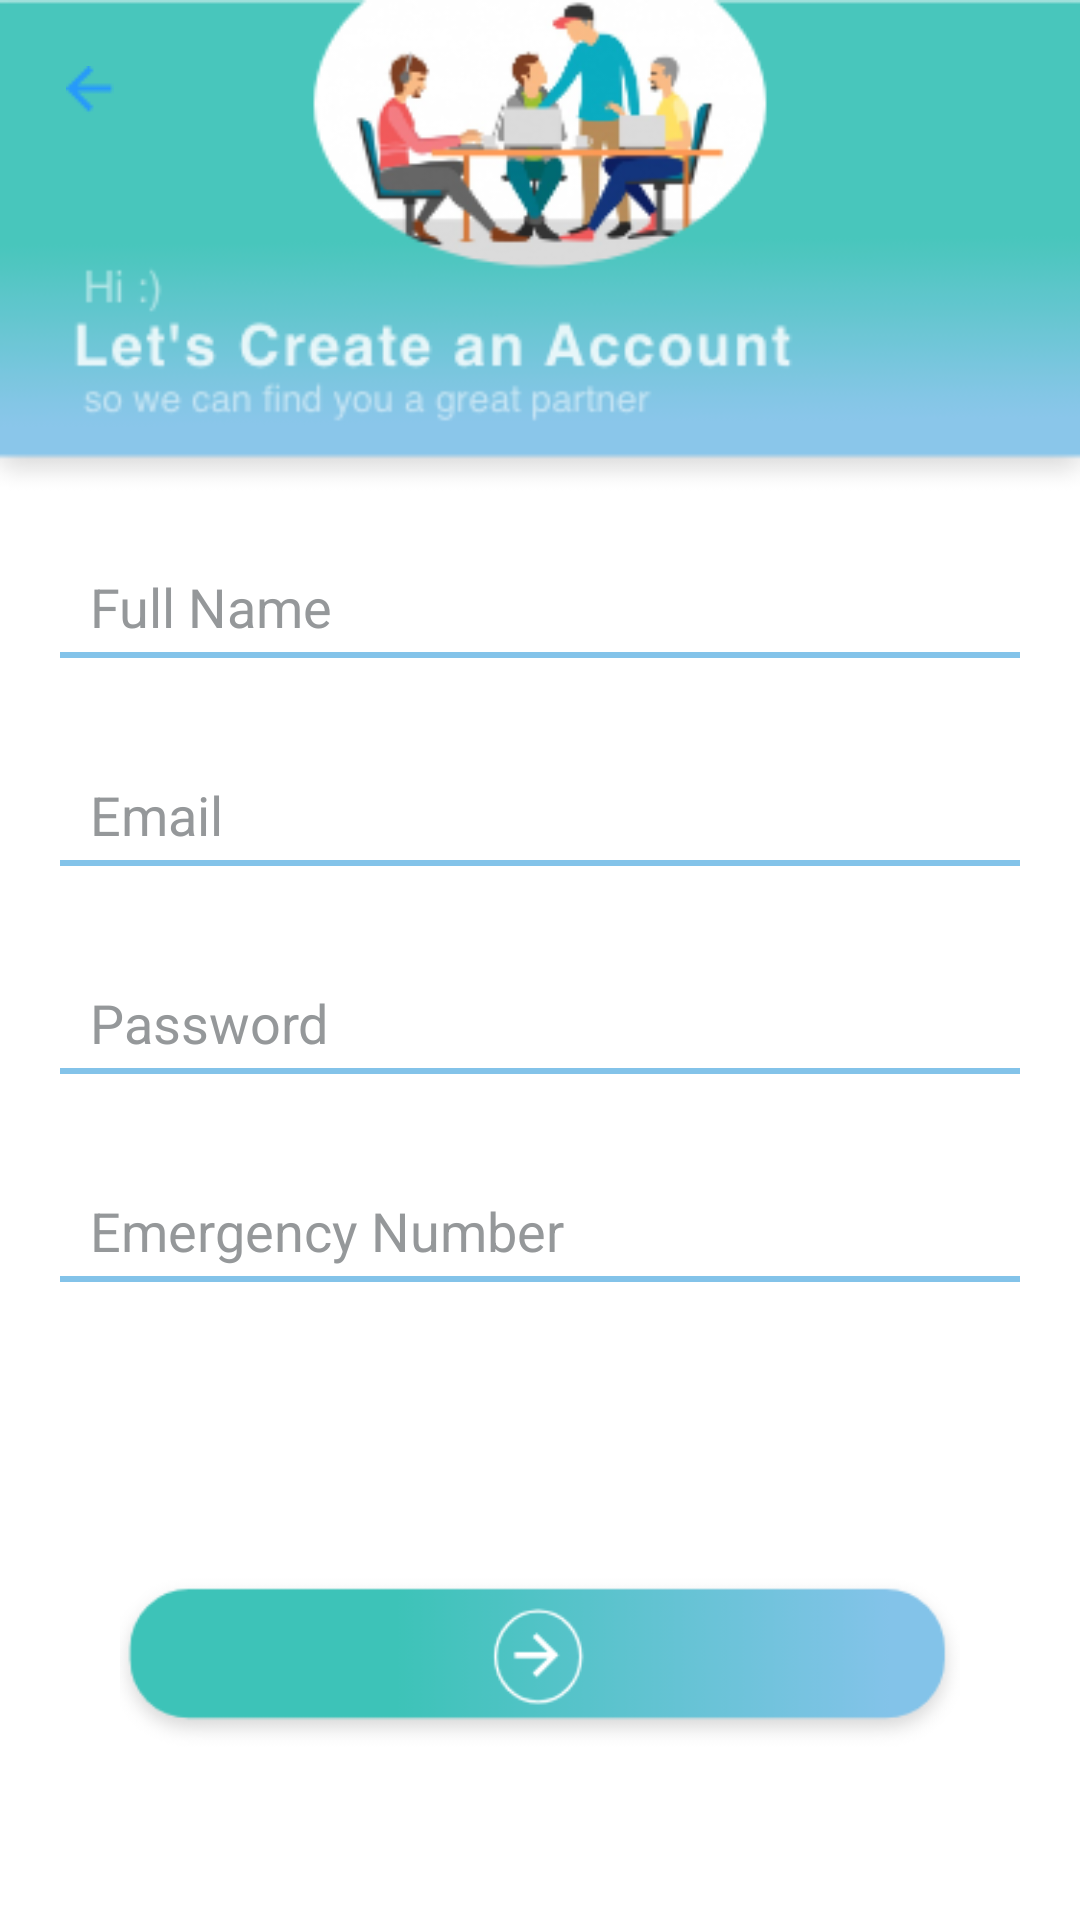

Where icons sit on this 1080px x 1920px app screen, as (x1, y1, x2, y2):
backbutton: (66, 66, 112, 111)
